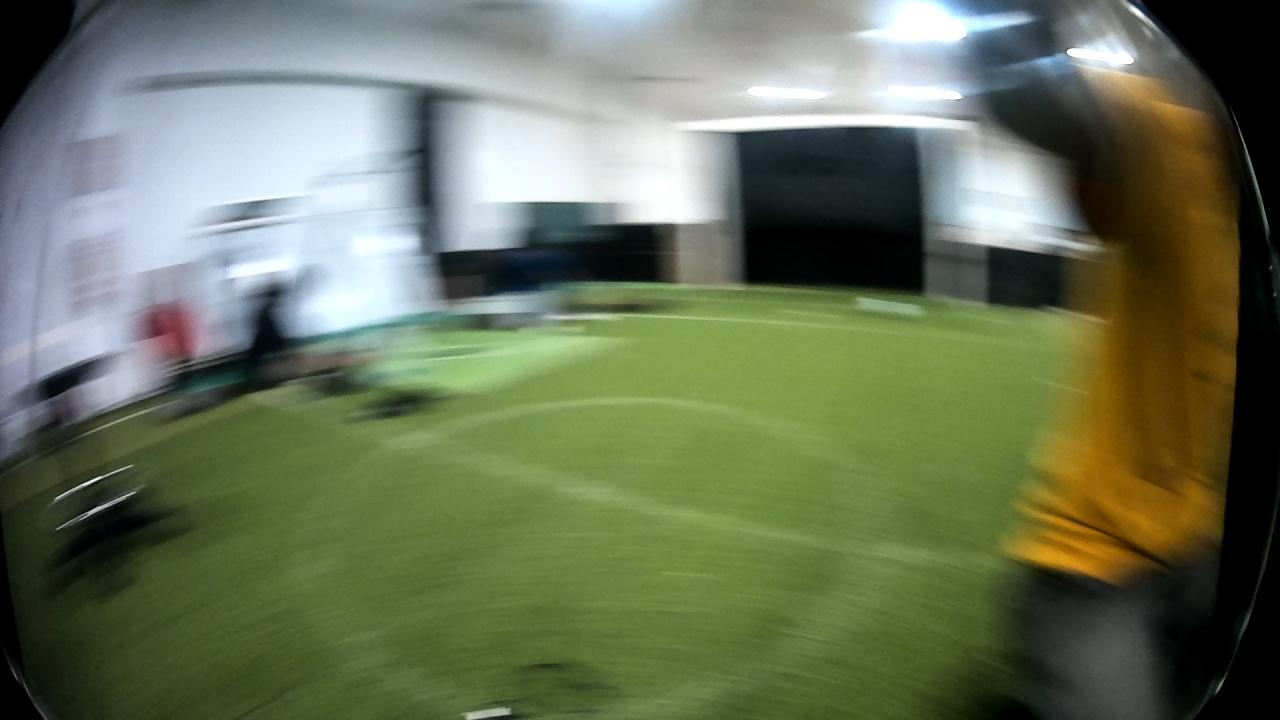ball: (847, 295, 927, 316)
